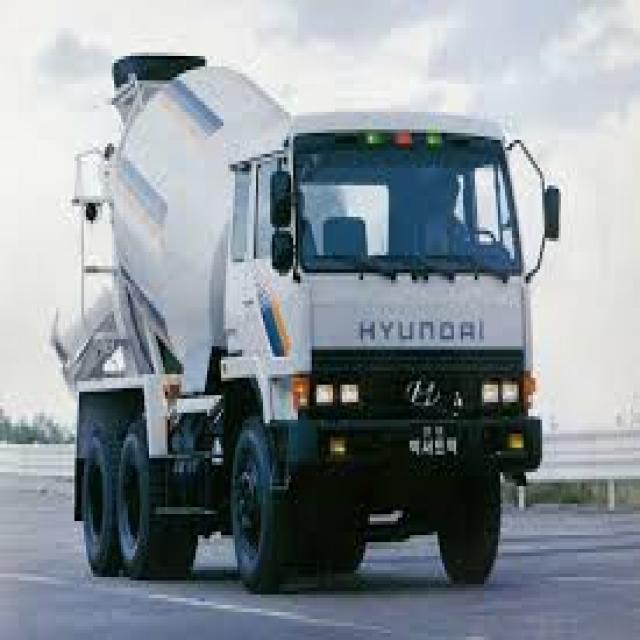Mixer Truck: (41, 47, 564, 598)
